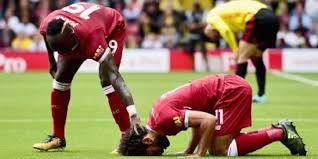sujud: (118, 71, 308, 159)
